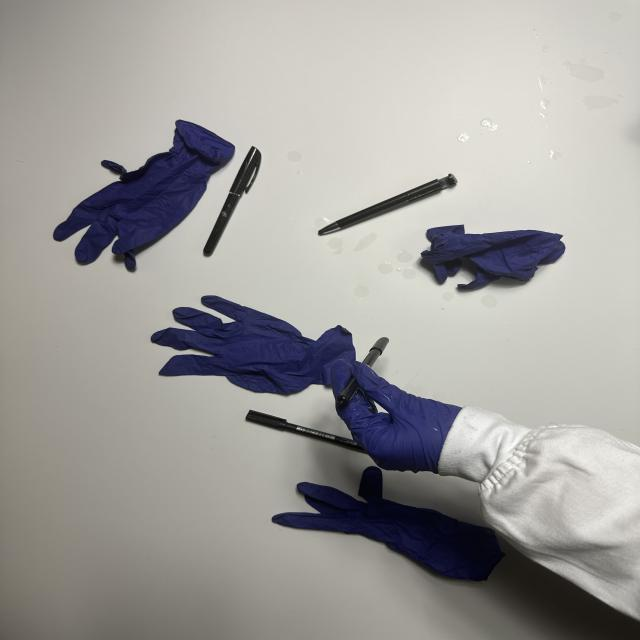gloves_contaminated: (331, 360, 461, 472)
